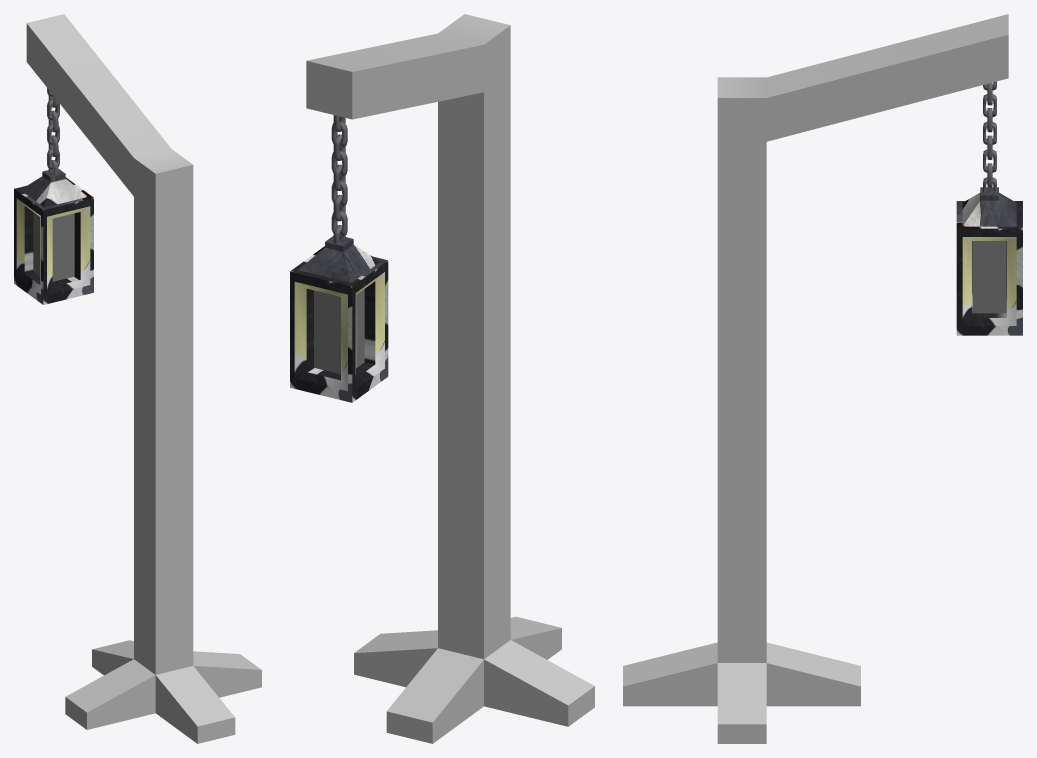
Rendered from Lantern_and_stand.obj.
3 renders of one model, left to right at view 1: azimuth 30°, elevation 25°; view 2: azimuth 150°, elevation 25°; view 3: azimuth 270°, elevation 25°, orthographic. The views are drawn at different scales.
Parts seen in each view (by area): view 1: pCube28, pCube16, pCube59; view 2: pCube28, pCube16, pCube59; view 3: pCube28, pCube16, pCube59.
Boxes of the visible parts, left/top/right/bottom form: pCube28: left=26, top=14, right=261, bottom=743; pCube16: left=14, top=169, right=93, bottom=304; pCube59: left=47, top=88, right=59, bottom=175; pCube28: left=306, top=14, right=594, bottom=743; pCube16: left=290, top=236, right=388, bottom=402; pCube59: left=331, top=115, right=347, bottom=243; pCube28: left=623, top=14, right=1008, bottom=743; pCube16: left=956, top=187, right=1022, bottom=335; pCube59: left=983, top=81, right=996, bottom=192.
Bounding box in the file's own units: 120 × 391 × 211.
